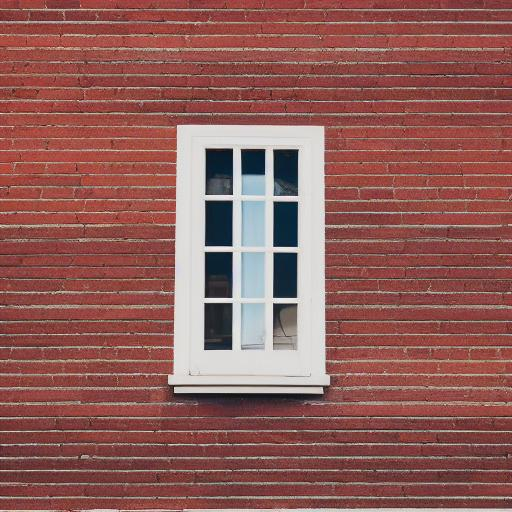Window: (169, 126, 332, 397)
